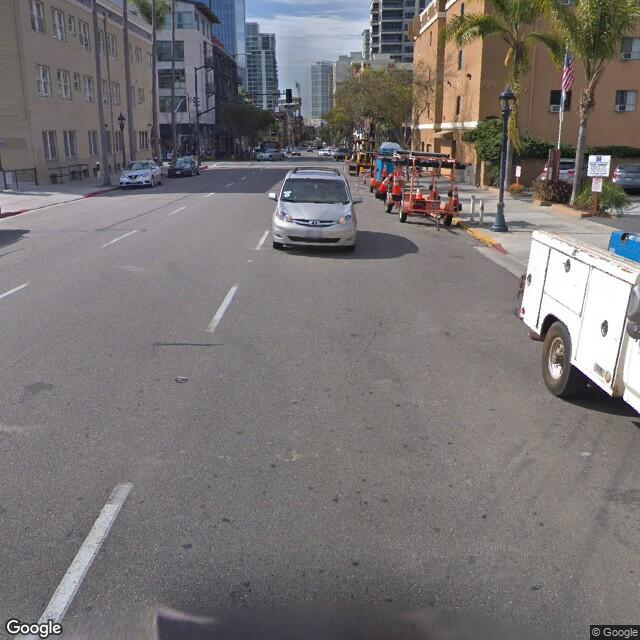road line: (32, 276, 246, 609)
